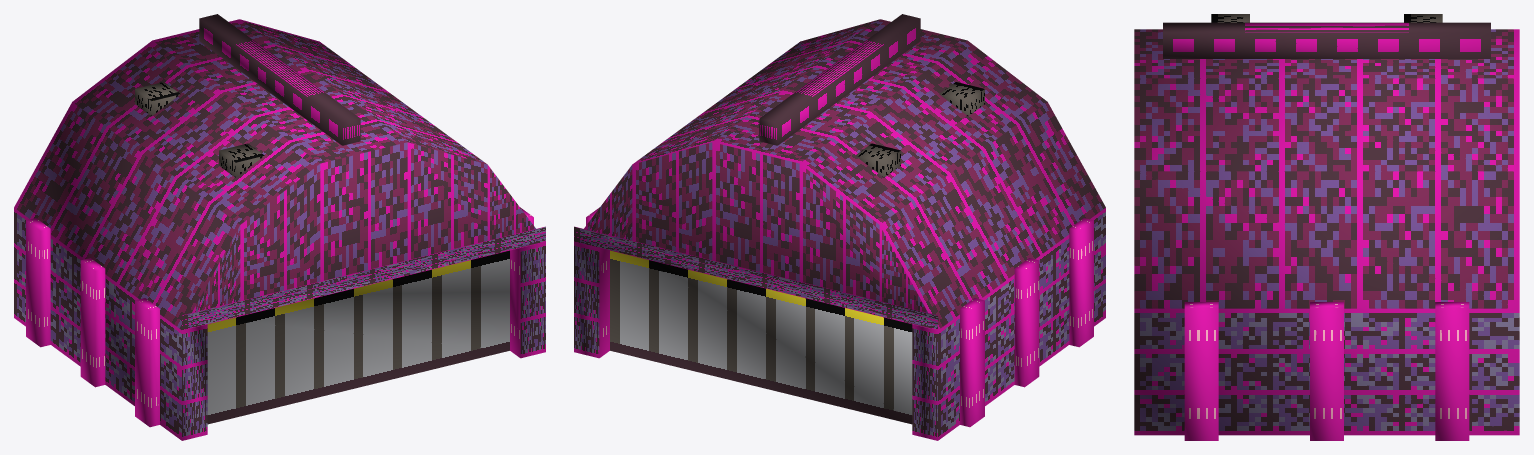
The model's file is hangar.glb.
3 renders of one model, left to right at view 1: azimuth 30°, elevation 25°; view 2: azimuth 150°, elevation 25°; view 3: azimuth 270°, elevation 25°, orthographic. The views are drawn at different scales.
Parts seen in each view (by area): view 1: Model; view 2: Model; view 3: Model.
Part boxes in pixels (bbox=[...]): Model: bbox=[14, 14, 545, 440]; Model: bbox=[574, 14, 1105, 440]; Model: bbox=[1134, 14, 1519, 440].
Bounding box in the file's own units: 32.74 × 21.7 × 24.8.
1 material, 1 textured.
